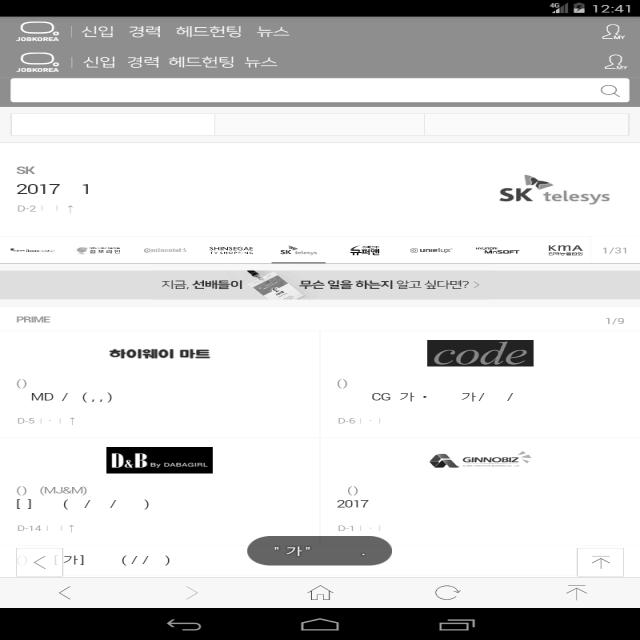EditText: (6, 74, 634, 104)
ImageButton: (552, 577, 600, 603), (13, 547, 60, 573), (592, 17, 630, 43), (582, 551, 622, 575), (167, 583, 214, 603), (302, 582, 347, 602), (50, 580, 86, 604), (592, 49, 630, 70), (429, 582, 468, 602)
ImageView: (105, 443, 216, 475), (426, 338, 532, 368), (419, 449, 543, 467), (250, 268, 295, 298), (513, 170, 563, 192), (470, 242, 529, 258), (344, 238, 386, 258), (73, 241, 128, 256), (541, 243, 588, 257)
TextView: (76, 19, 300, 43), (81, 48, 284, 72), (306, 270, 490, 294), (99, 339, 224, 363), (147, 269, 242, 293), (11, 179, 99, 197), (9, 310, 66, 324)
